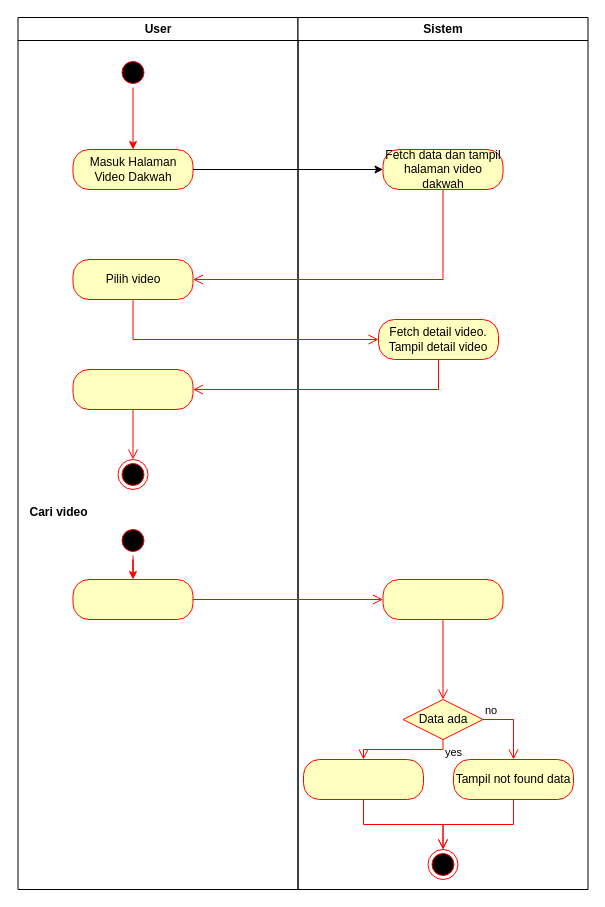
Image size: 605x907. Some labels were removed from this diagram. The shapes that lost their labels are listed below. From the top down, each one's centre as x and y in pixels, then its label:
point 132,389: Play video
point 132,599: Ketik pencarian dan tekan Cari
point 442,599: Cari Data
point 363,779: Tampil data
